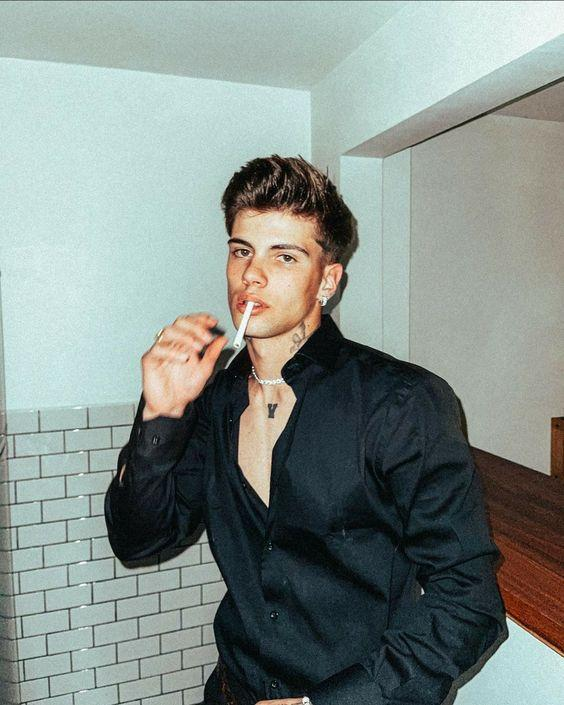cigarette: (234, 301, 255, 348)
